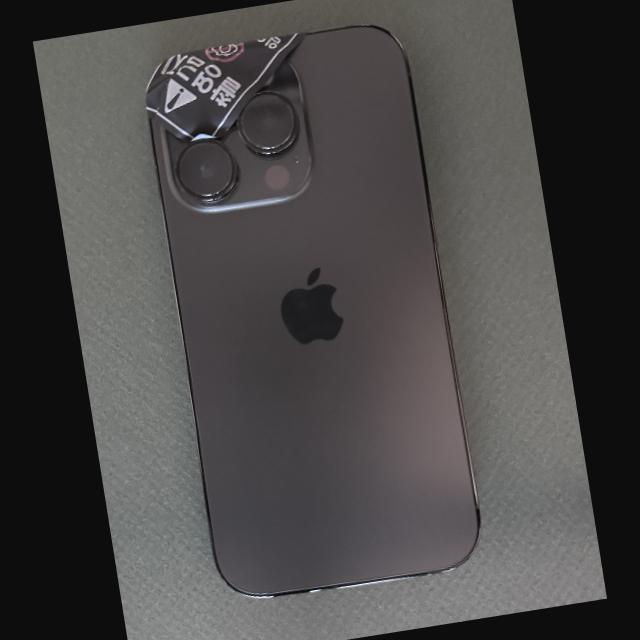lens: (180, 139, 235, 198), (240, 94, 295, 150)
phone: (146, 22, 483, 598)
sticker: (146, 32, 306, 142)
